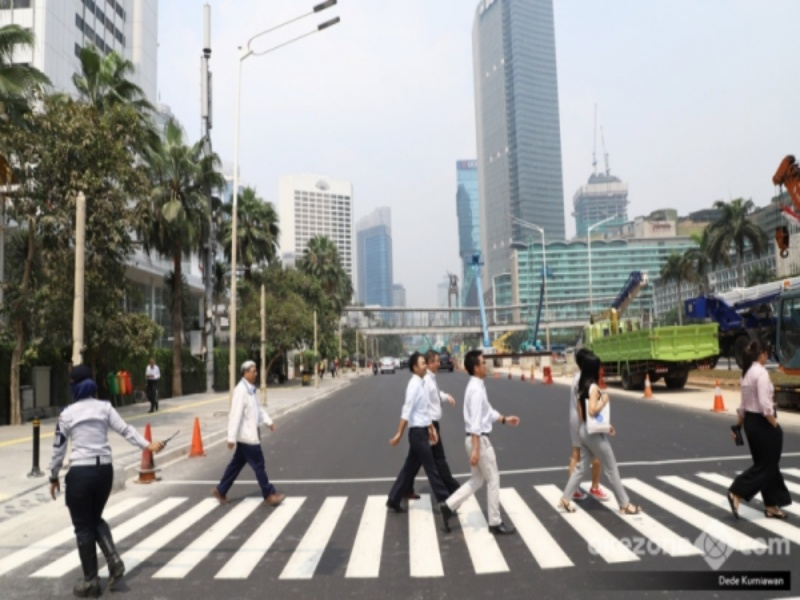zebra cross: (3, 463, 800, 580)
